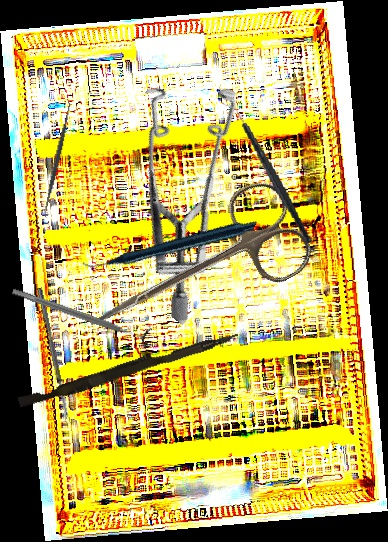Chopper: (221, 91, 314, 254)
Fixation Ring: (9, 280, 153, 349)
Handpiece: (81, 166, 258, 320)
Iris Scissors: (68, 172, 320, 374)
Pusher: (17, 323, 240, 414)
Spatula Surgical: (37, 98, 77, 219)
Speculum: (47, 49, 312, 326)
Surgical Spoon: (36, 287, 71, 425)
